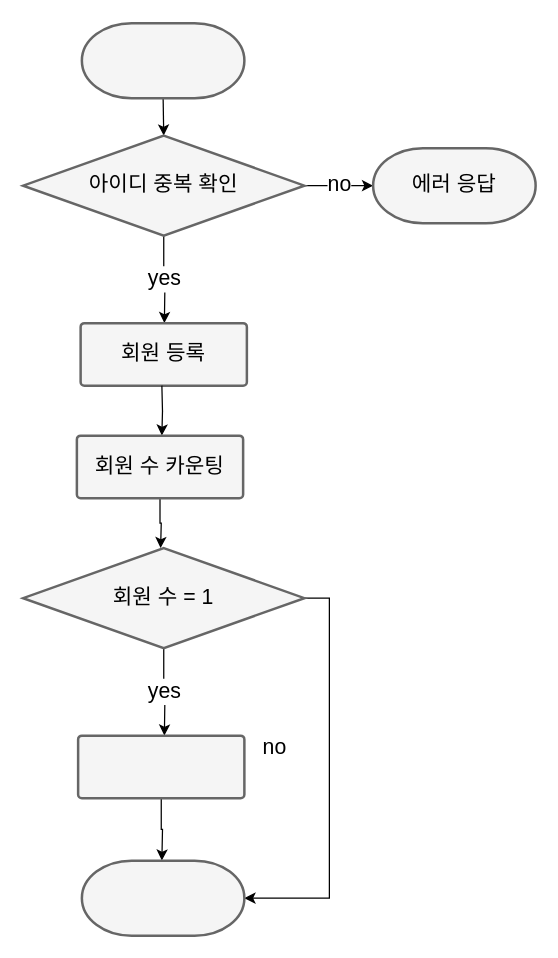
This 558x958 diagram has some shape labels left out. Here are the shapes that lost their labels. From the top down, the centre of each, then its label:
At (x=162, y=60): "회원가입 요청".
At (x=160, y=766): "관리자로 지정".
At (x=162, y=897): "요청 응답".
